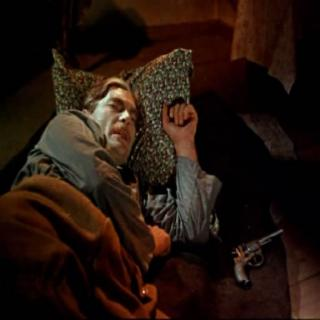gun: (228, 225, 286, 294)
